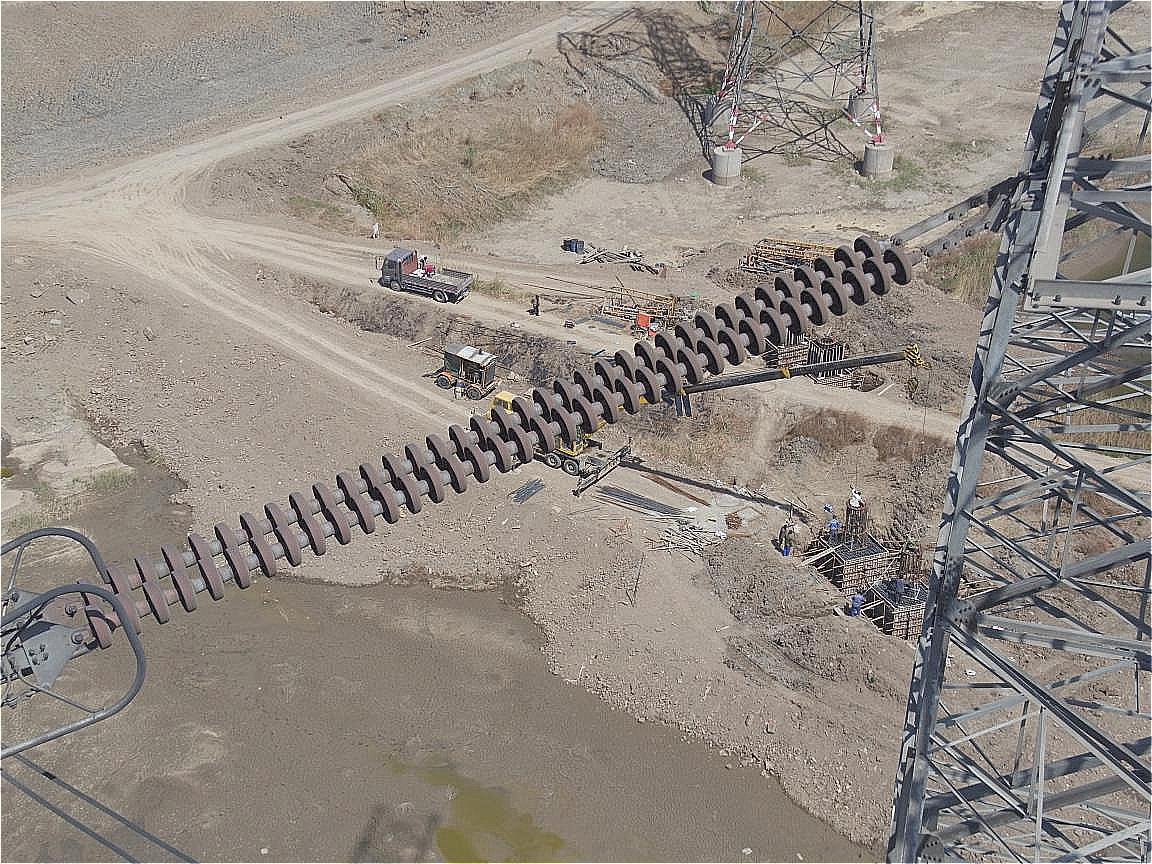insultor1: (90, 218, 920, 658)
